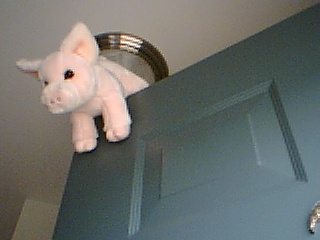piggy: (14, 20, 152, 155)
